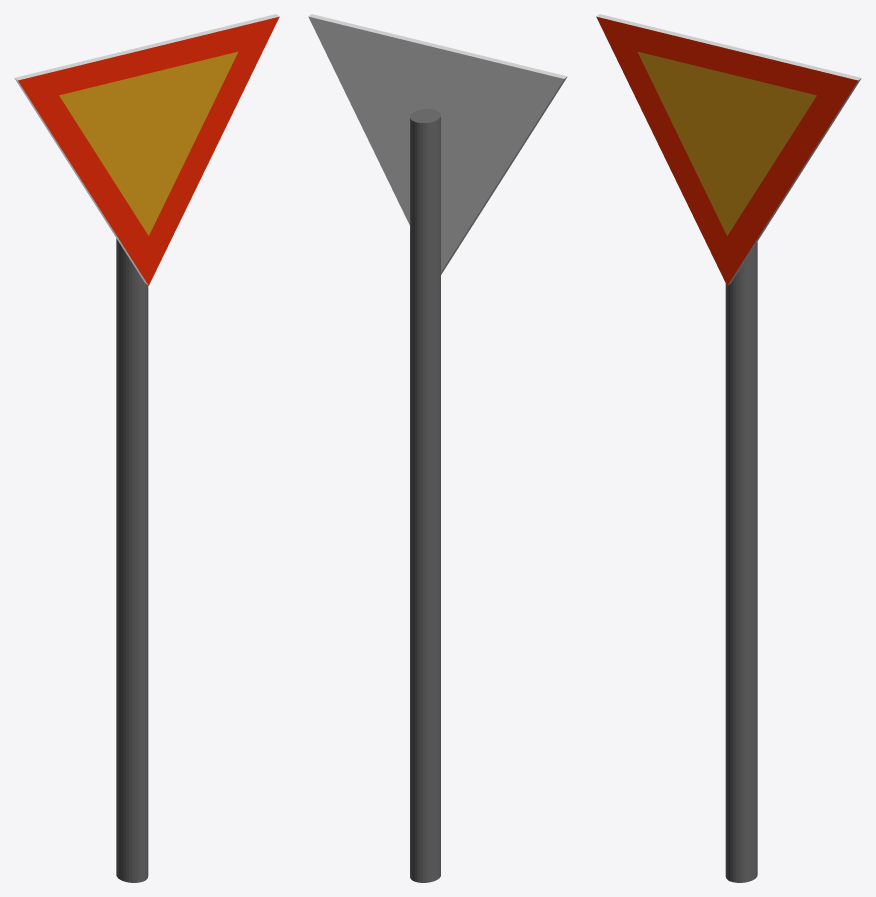
File: Vajningsplikt.fbx
3 views of the same model, side by side, from view 1: azimuth 30°, elevation 25°; view 2: azimuth 150°, elevation 25°; view 3: azimuth 330°, elevation 25° (orthographic). The views are drawn at different scales.
Visible parts, largest first — view 1: Varningsskylt, Cylinder.002; view 2: Varningsskylt, Cylinder.002; view 3: Varningsskylt, Cylinder.002.
Part boxes in pixels (x1,y1,x2,y2): Varningsskylt: [14, 14, 279, 285]; Cylinder.002: [116, 238, 148, 882]; Varningsskylt: [308, 14, 567, 274]; Cylinder.002: [410, 109, 440, 882]; Varningsskylt: [596, 14, 861, 285]; Cylinder.002: [725, 242, 757, 882].
Size of the model in its own units: 1.77 by 5.42 by 0.286.
